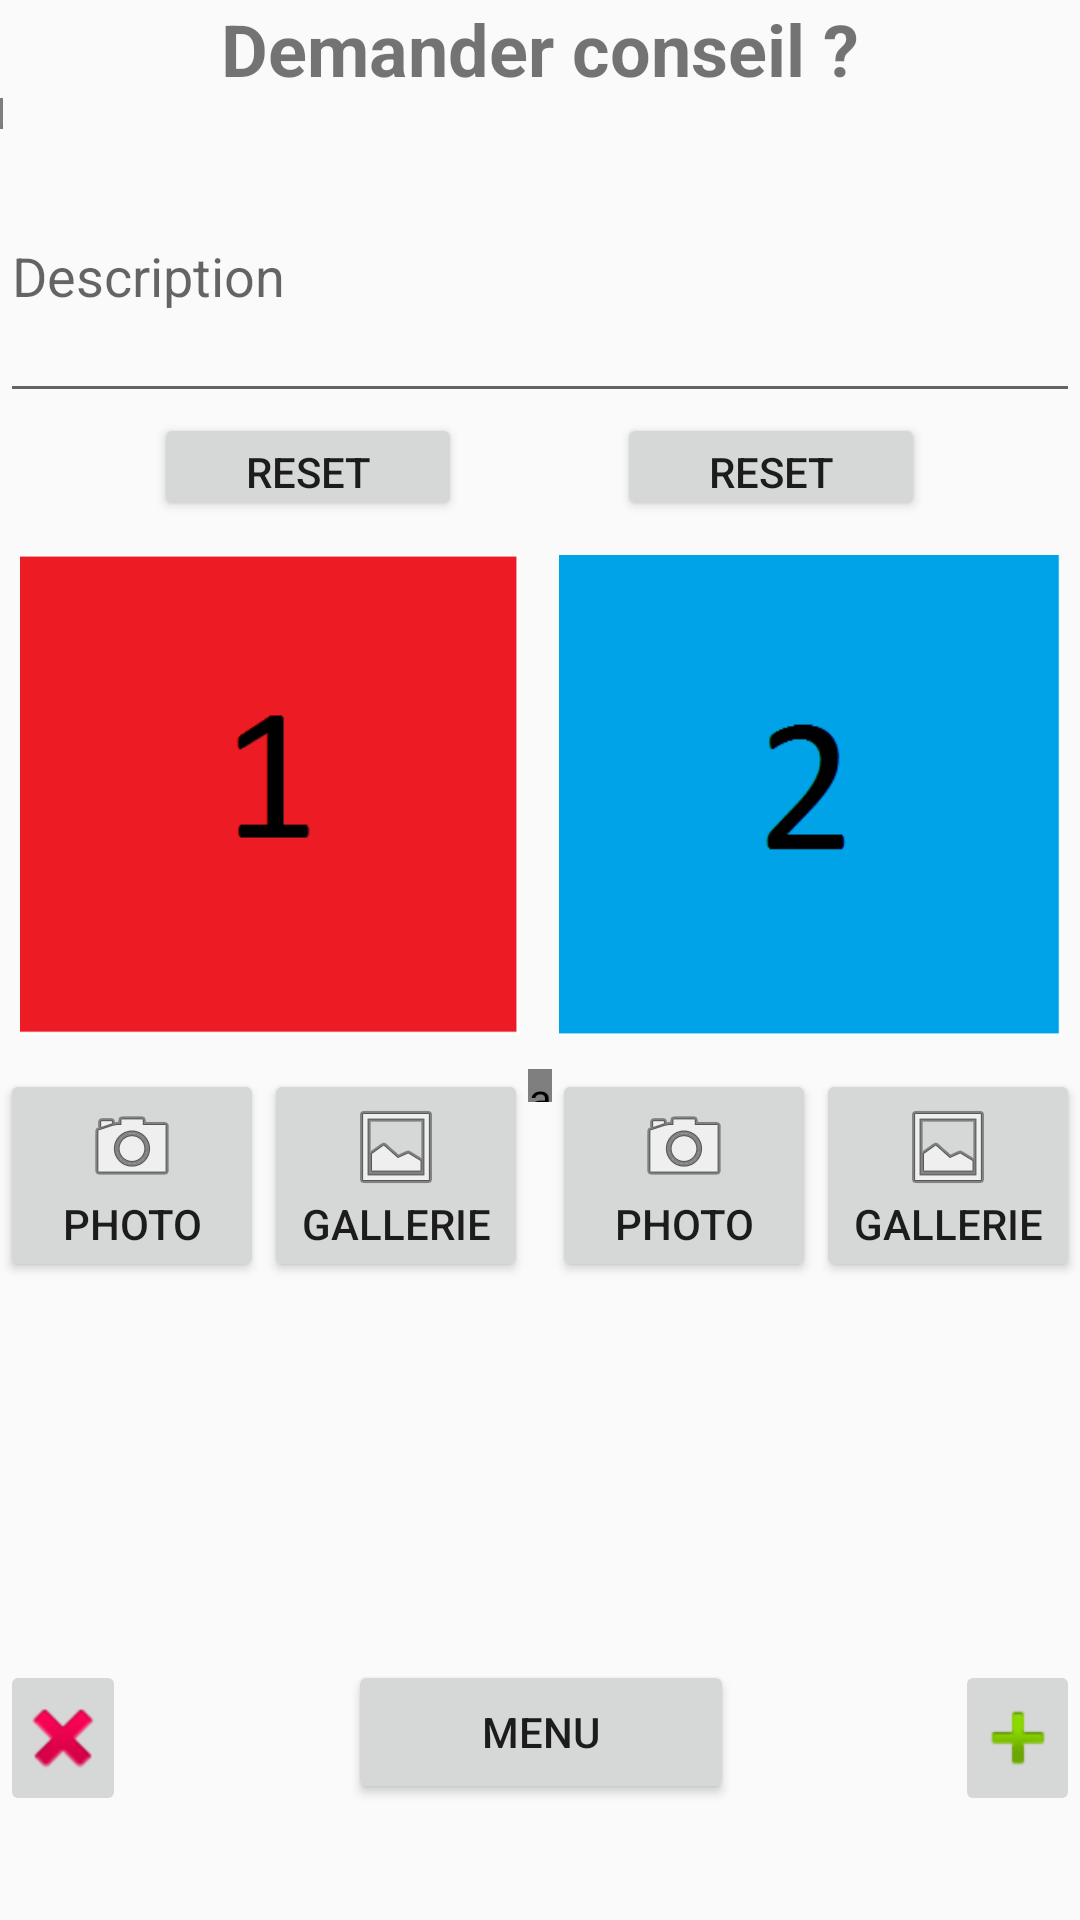

Screen size 1080 x 1920. Icon name, then its box in pixels as BBox(x1, y1, x2, y2):
add: BBox(967, 1678, 1068, 1798)
delete: BBox(12, 1678, 114, 1798)
